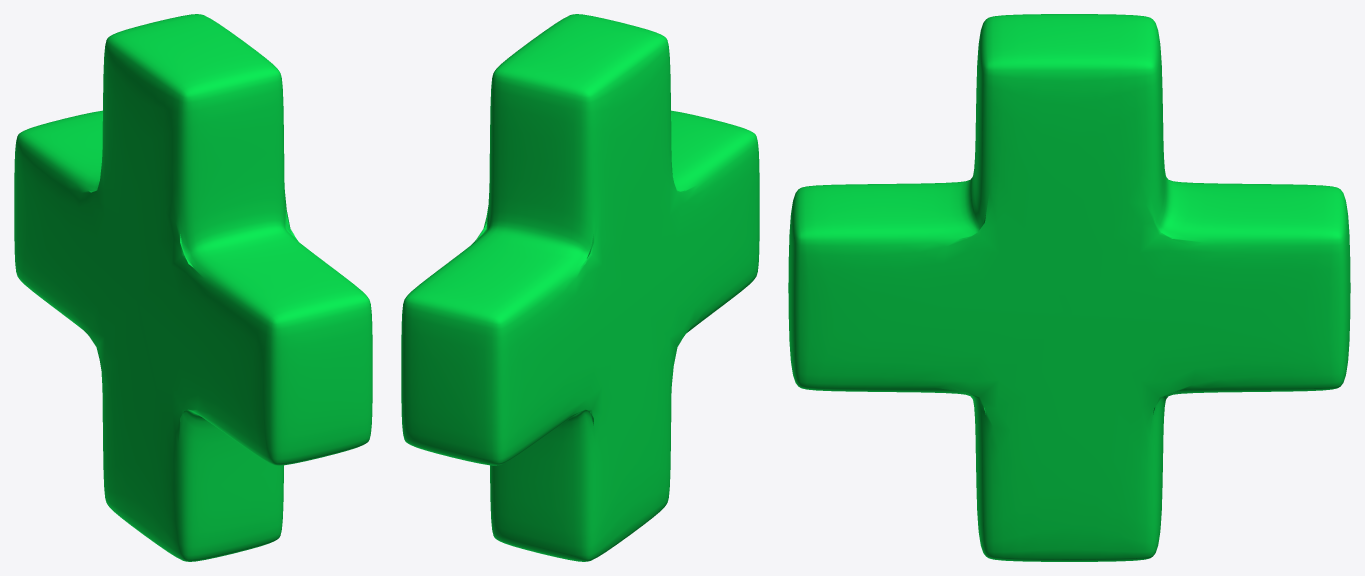
Rendered from Health_Pickup.fbx.
The picture shows the model from 3 angles, left to right: view 1: azimuth 30°, elevation 25°; view 2: azimuth 150°, elevation 25°; view 3: azimuth 270°, elevation 25°; orthographic projection. The views are drawn at different scales.
Parts seen in each view (by area): view 1: Cube.001; view 2: Cube.001; view 3: Cube.001.
Part boxes in pixels (bbox=[...]): Cube.001: bbox=[14, 14, 372, 561]; Cube.001: bbox=[401, 14, 759, 561]; Cube.001: bbox=[788, 14, 1350, 561].
Bounding box in the file's own units: 145 × 599 × 599.
